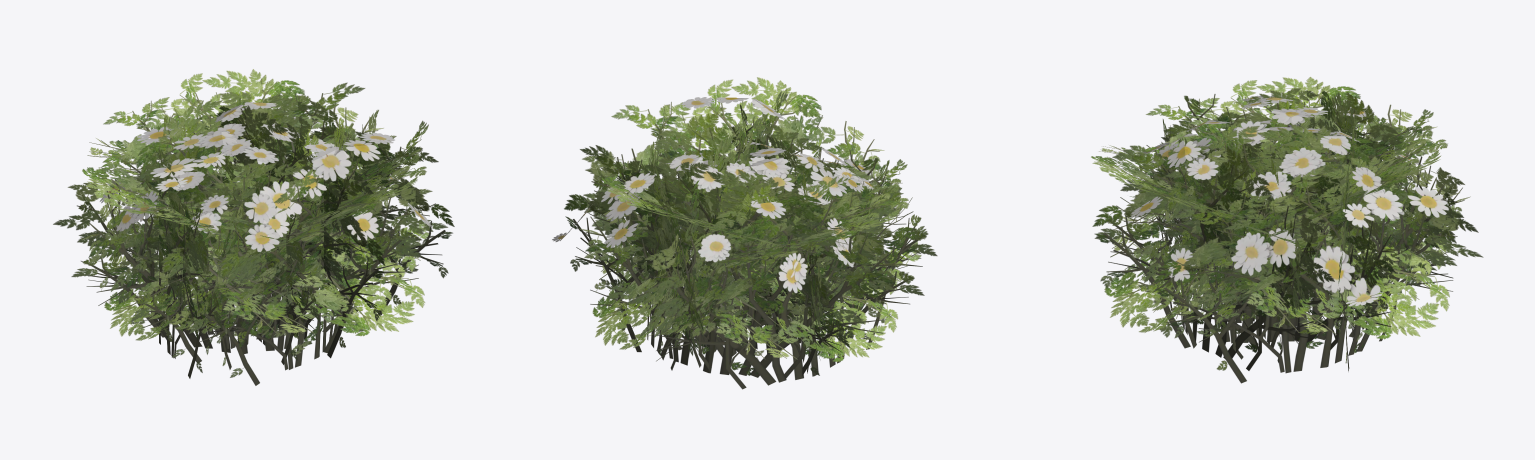
File: plants_white_flower.glb
The picture shows the model from 3 angles, left to right: view 1: azimuth 30°, elevation 25°; view 2: azimuth 150°, elevation 25°; view 3: azimuth 270°, elevation 25°; orthographic projection. The views are drawn at different scales.
Parts seen in each view (by area): view 1: Flowers-04; view 2: Flowers-04; view 3: Flowers-04.
Boxes of the visible parts, x1,y1,x2,y2 form: Flowers-04: (53,69,454,385); Flowers-04: (552,77,937,389); Flowers-04: (1091,77,1483,383).
Size of the model in its own units: 1.41 by 0.943 by 1.47.
Materials: 4 (4 with a texture image).
